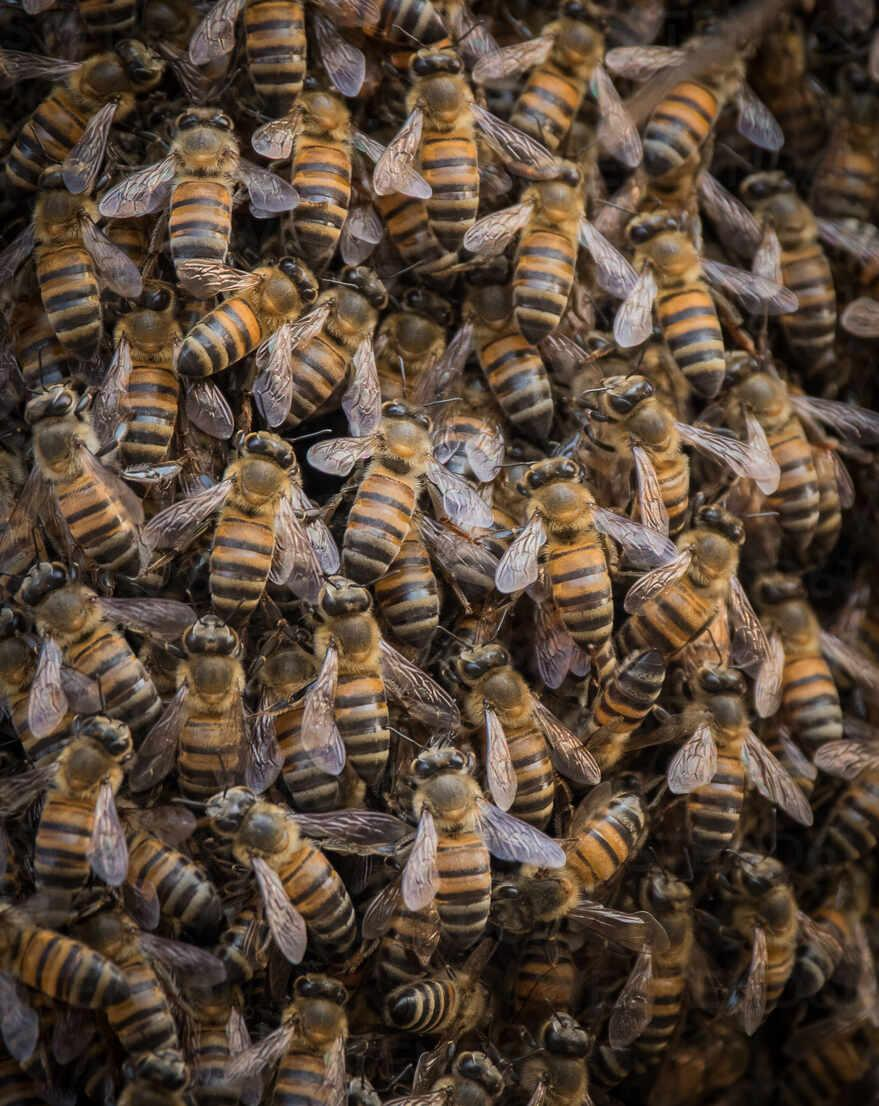Apis-mellifera-scutellata: (2, 359, 176, 631), (513, 438, 656, 682), (195, 788, 380, 960), (380, 33, 514, 258), (18, 153, 132, 385), (90, 855, 202, 1075), (496, 795, 663, 934), (67, 704, 129, 1045), (328, 372, 416, 610), (205, 413, 295, 643), (162, 93, 264, 293), (665, 482, 767, 681), (686, 631, 768, 878), (279, 82, 374, 284), (404, 742, 490, 956), (654, 19, 735, 216), (1, 908, 131, 1023), (511, 0, 606, 155), (434, 371, 504, 557), (204, 1, 330, 100), (797, 529, 817, 753)
